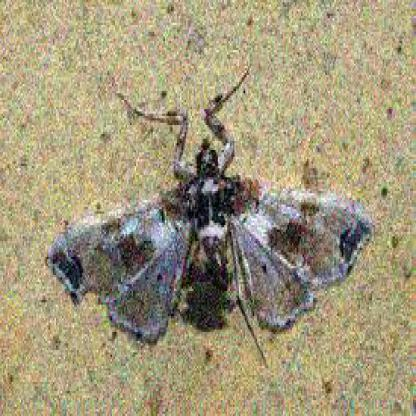leucinodes: (46, 106, 376, 347)
